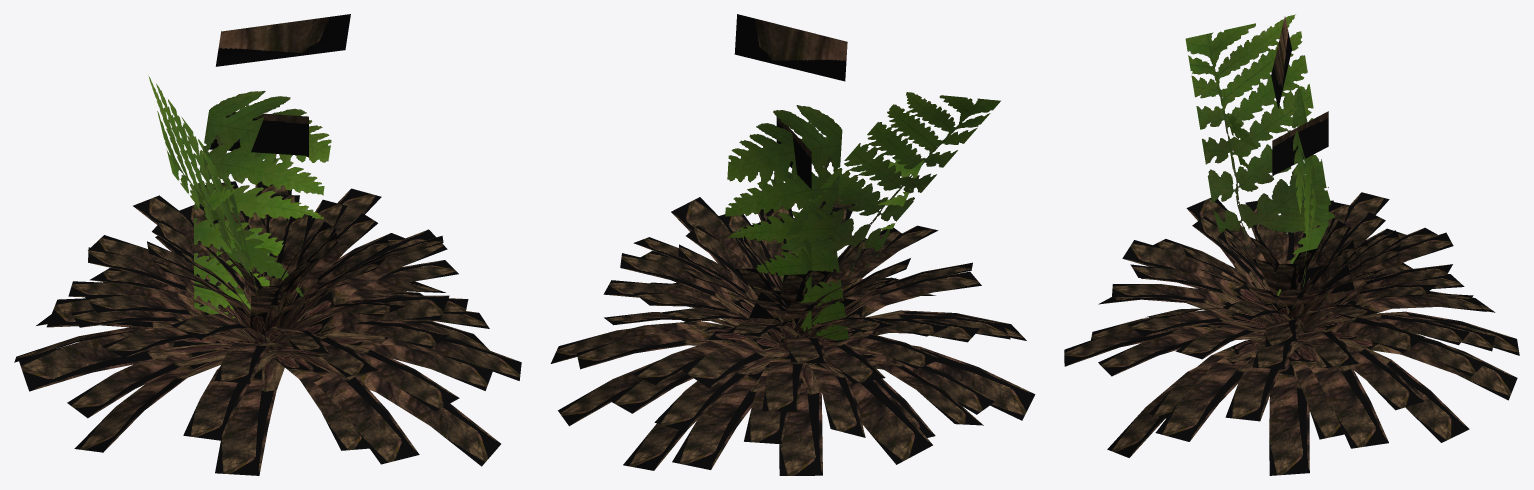
Rendered from bromelia.fbx.
The picture shows the model from 3 angles, left to right: view 1: azimuth 30°, elevation 25°; view 2: azimuth 150°, elevation 25°; view 3: azimuth 270°, elevation 25°; orthographic projection. The views are drawn at different scales.
Visible parts, largest first — view 1: Plane.052; view 2: Plane.052; view 3: Plane.052.
Boxes of the visible parts, x1,y1,x2,y2 form: Plane.052: (14, 14, 521, 475); Plane.052: (550, 14, 1035, 475); Plane.052: (1064, 14, 1519, 475).
Size of the model in its own units: 485 by 431 by 491.
